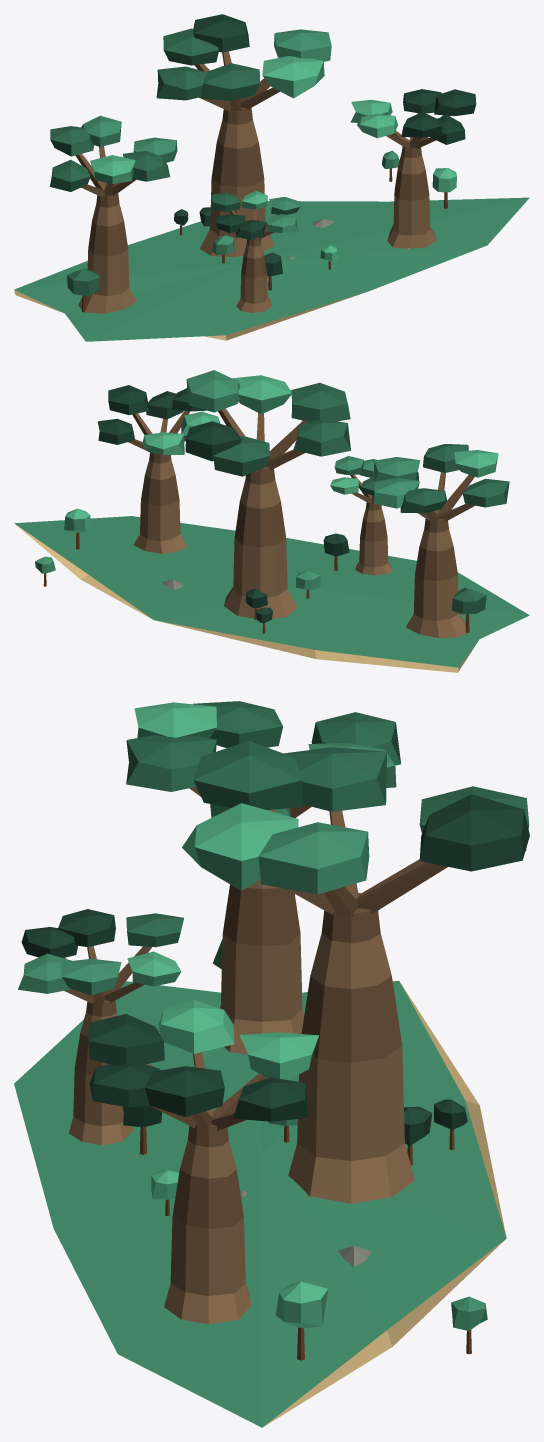
Rendered from W3_Mid_Baobabs.fbx.
The picture shows the model from 3 angles, top to bottom: view 1: azimuth 30°, elevation 25°; view 2: azimuth 150°, elevation 25°; view 3: azimuth 270°, elevation 25°; orthographic projection. The views are drawn at different scales.
Visible parts, largest first — view 1: W3_Mid_Baobabs; view 2: W3_Mid_Baobabs; view 3: W3_Mid_Baobabs.
Boxes of the visible parts, bbox=[...] form: W3_Mid_Baobabs: bbox=[14, 14, 529, 341]; W3_Mid_Baobabs: bbox=[14, 370, 529, 672]; W3_Mid_Baobabs: bbox=[14, 701, 529, 1427].
Bounding box in the file's own units: 121 × 50.51 × 57.84.
